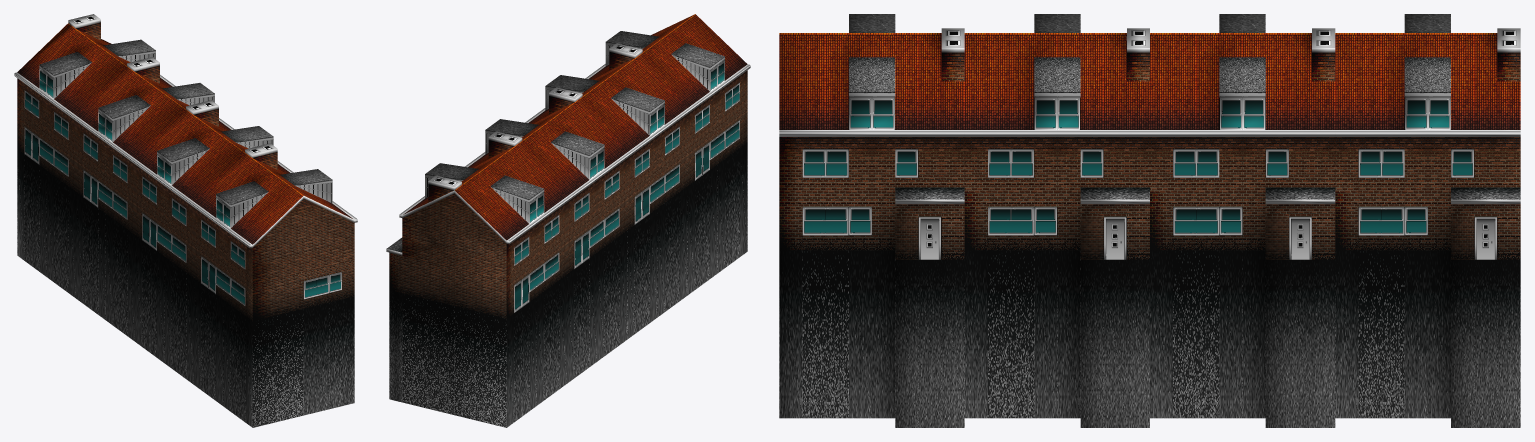
Rendered from doorzon_mod2_3a.fbx.
The picture shows the model from 3 angles, left to right: view 1: azimuth 30°, elevation 25°; view 2: azimuth 150°, elevation 25°; view 3: azimuth 270°, elevation 25°; orthographic projection. The views are drawn at different scales.
Visible parts, largest first — view 1: doorzon_mod2_3a; view 2: doorzon_mod2_3a; view 3: doorzon_mod2_3a.
Part boxes in pixels (x1,y1,x2,y2): doorzon_mod2_3a: (14,14,357,427); doorzon_mod2_3a: (386,14,750,427); doorzon_mod2_3a: (779,14,1520,427).
Size of the model in its own units: 1062 by 1879 by 3600.
